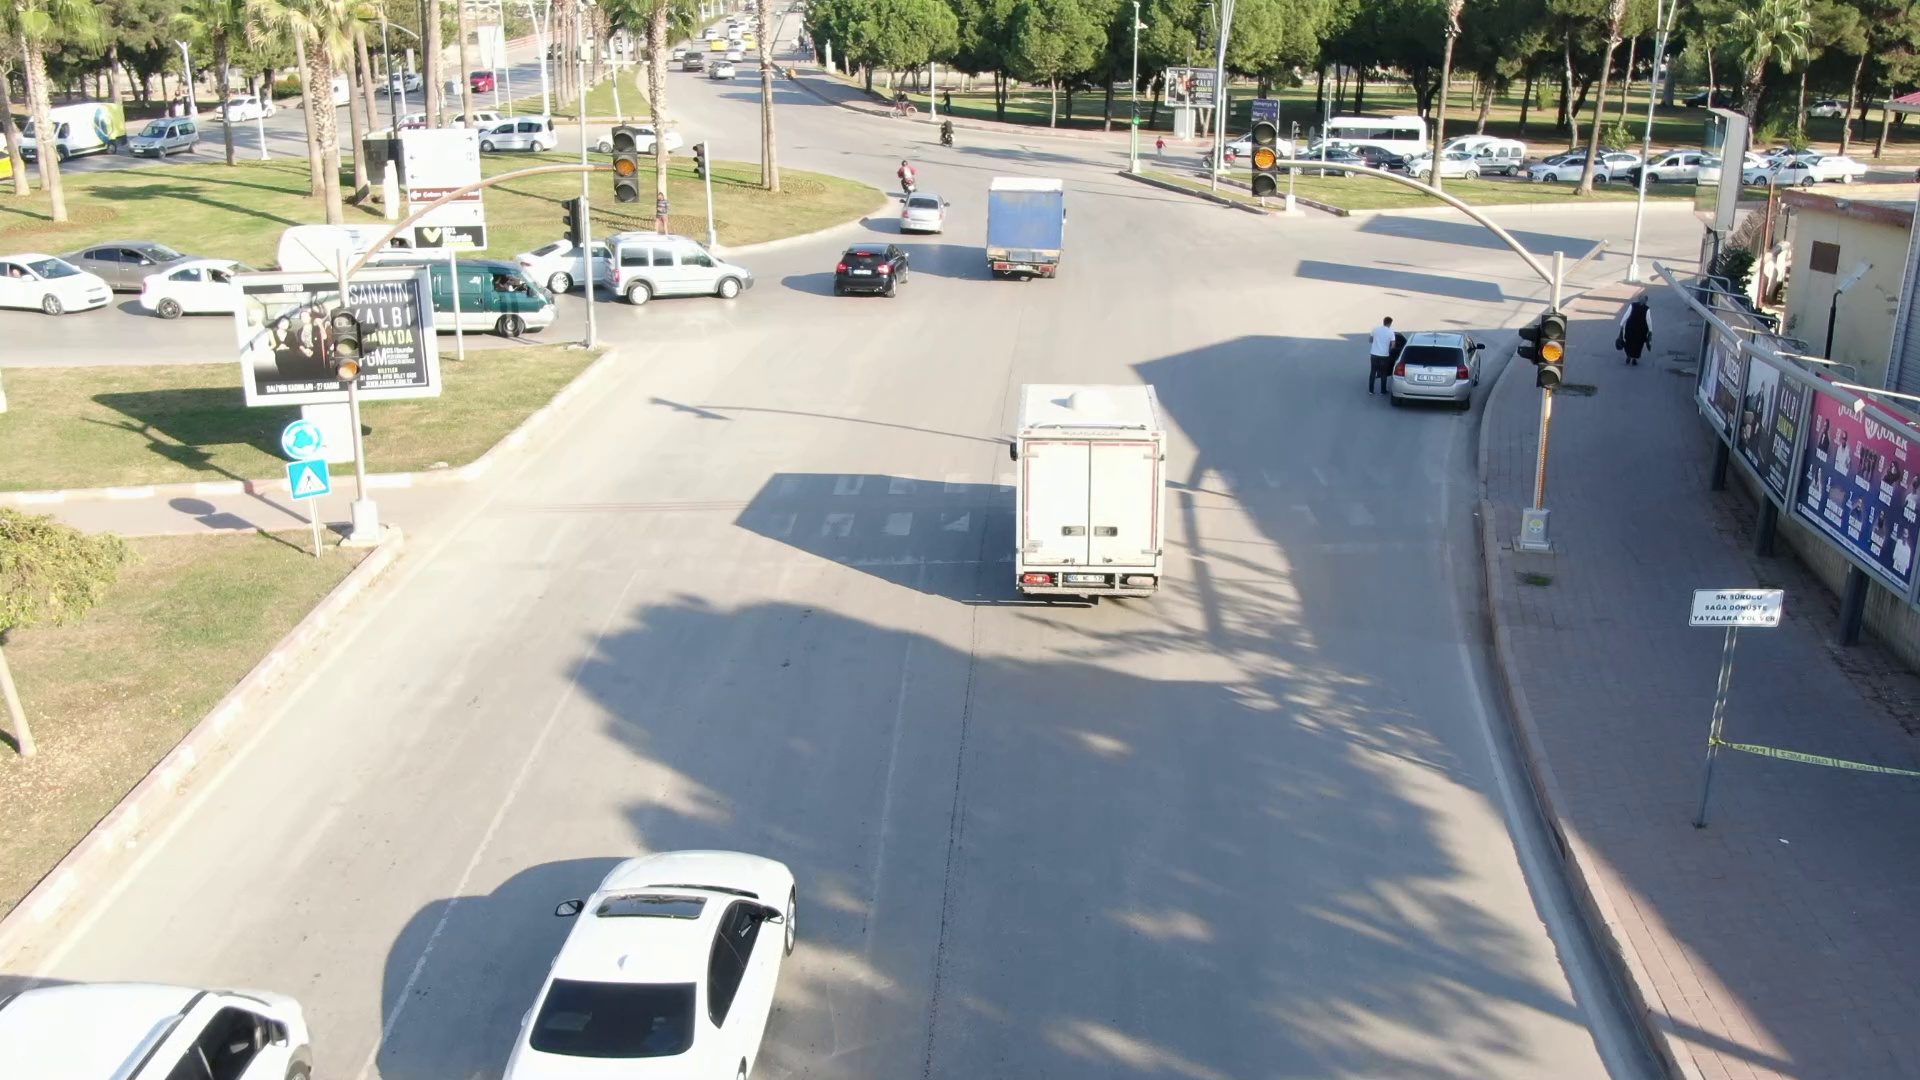car: (467, 795, 838, 1080), (994, 362, 1213, 608), (979, 170, 1090, 292), (604, 224, 758, 309), (1391, 326, 1497, 410), (827, 236, 913, 296), (890, 189, 953, 236)
person: (1608, 291, 1667, 374), (1362, 312, 1404, 410)
